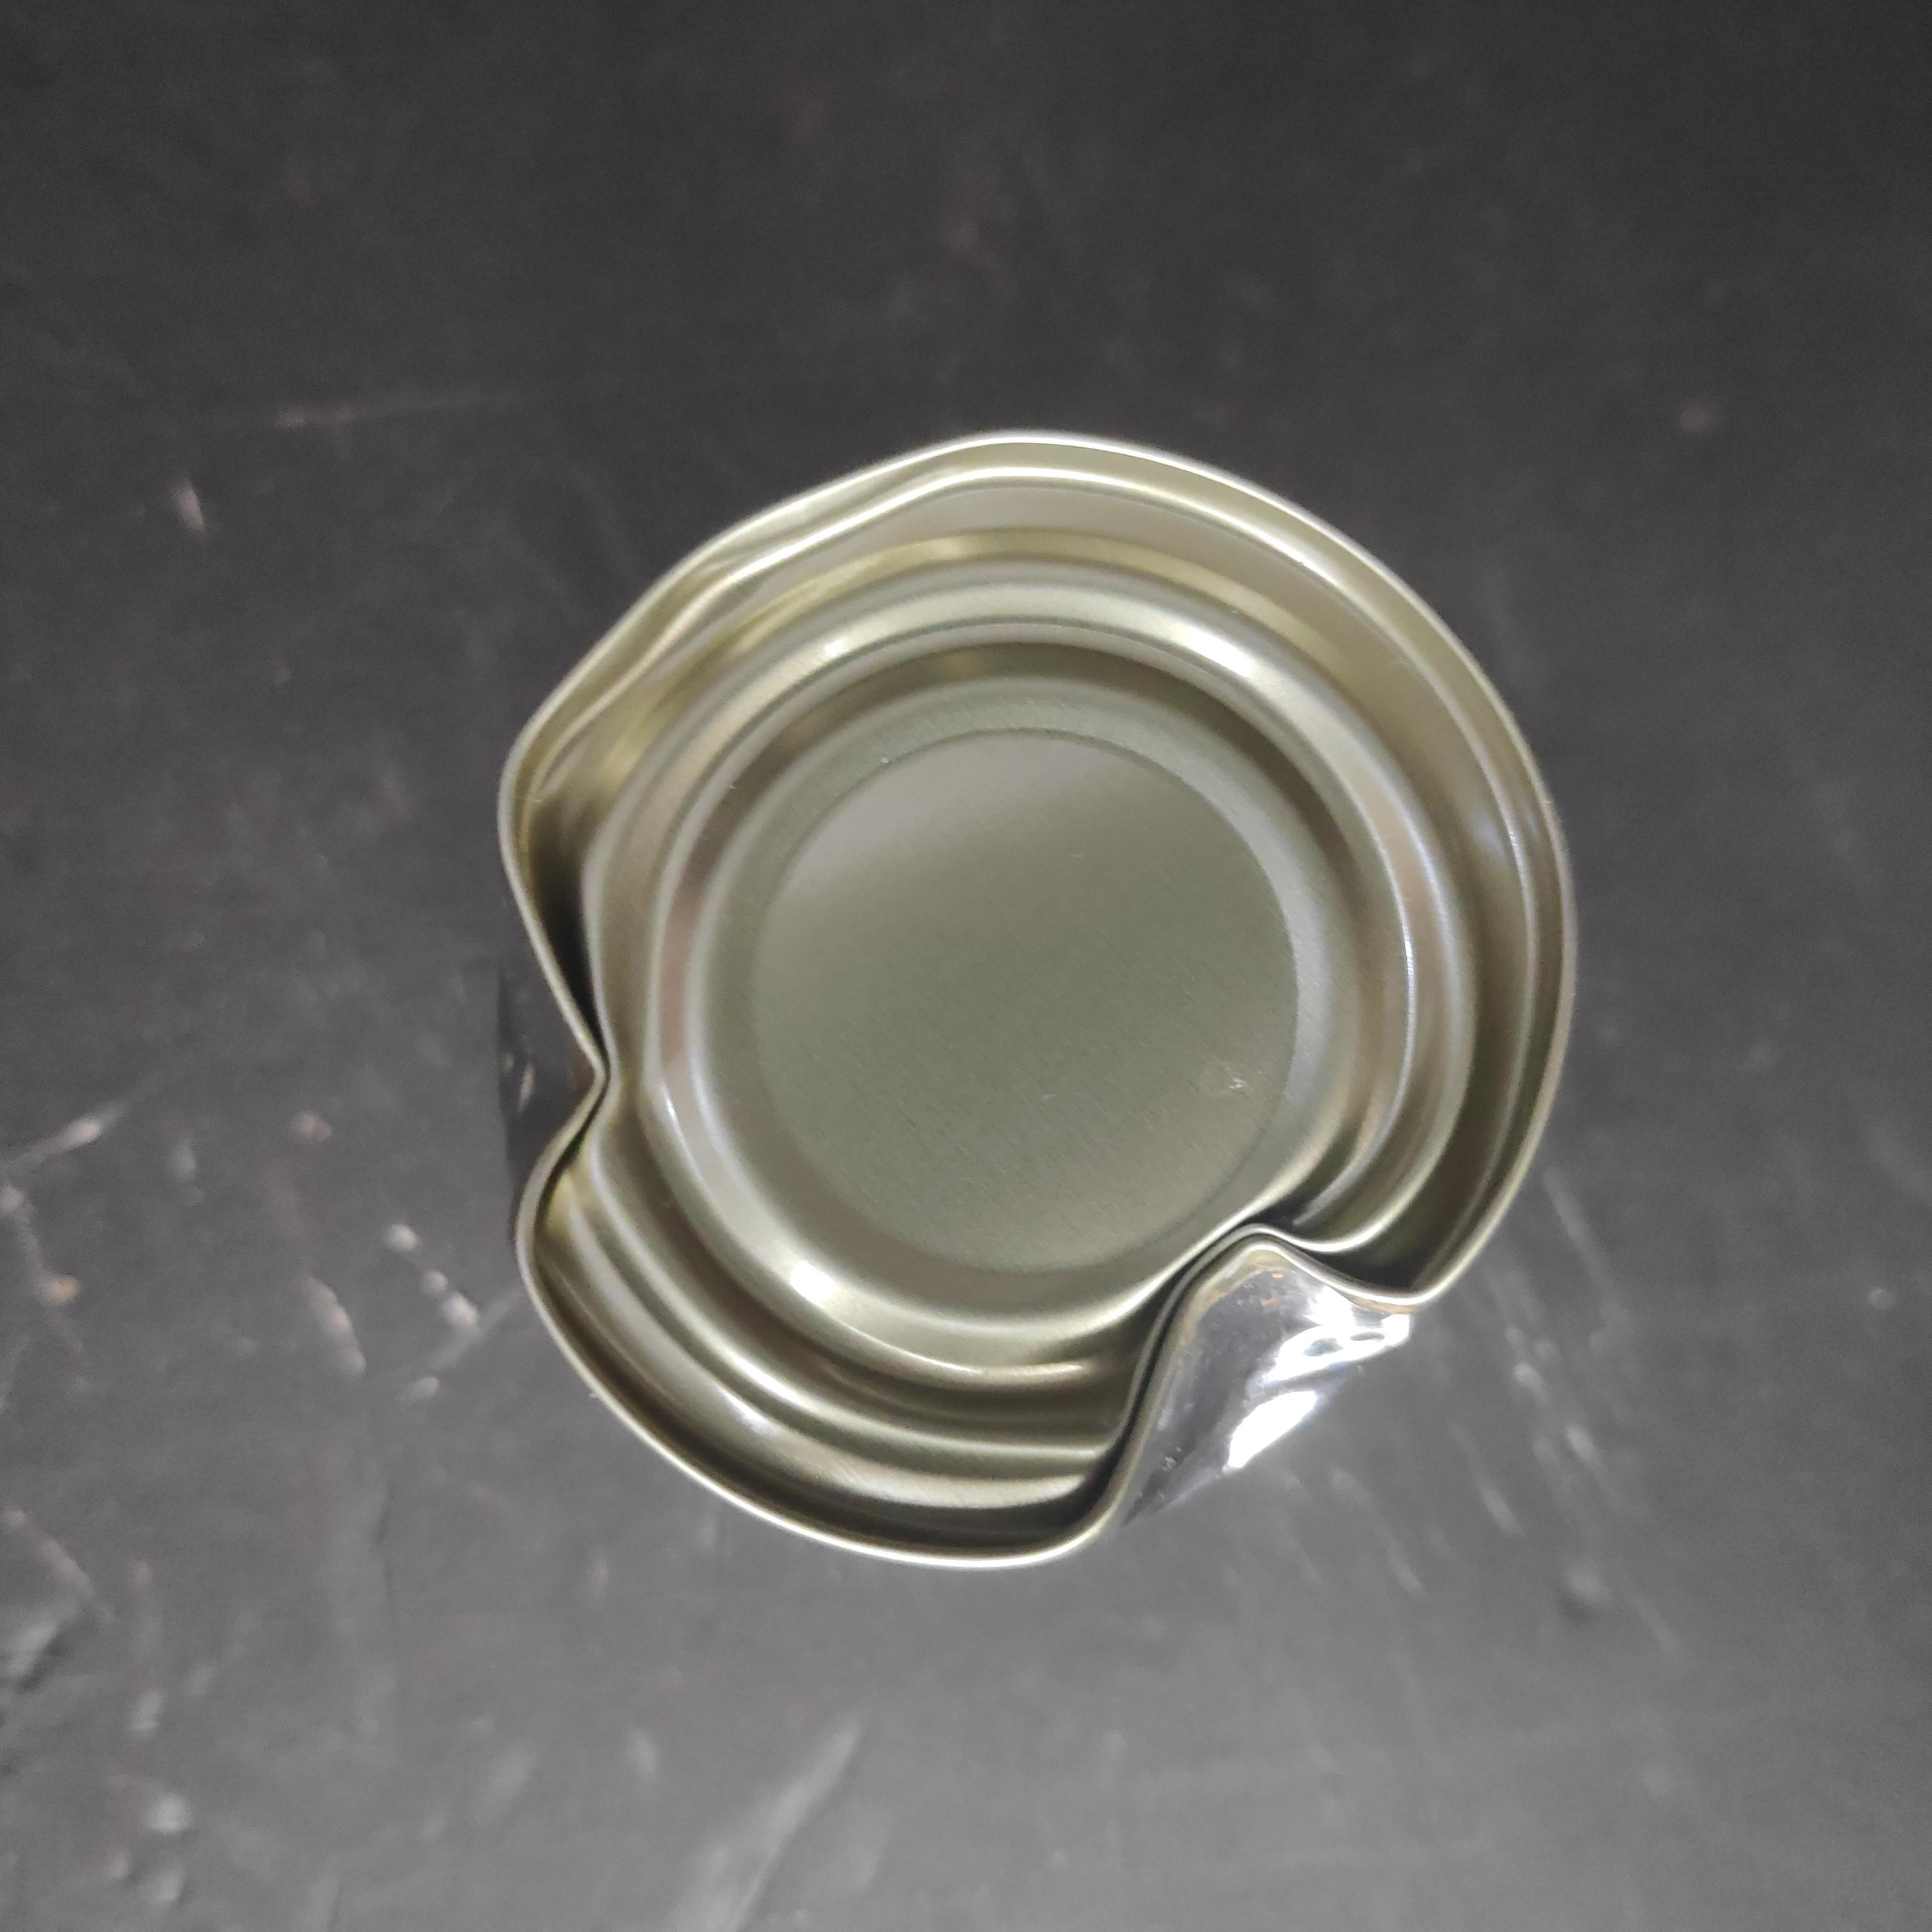Critical Defect: (349, 479, 1518, 1594)
